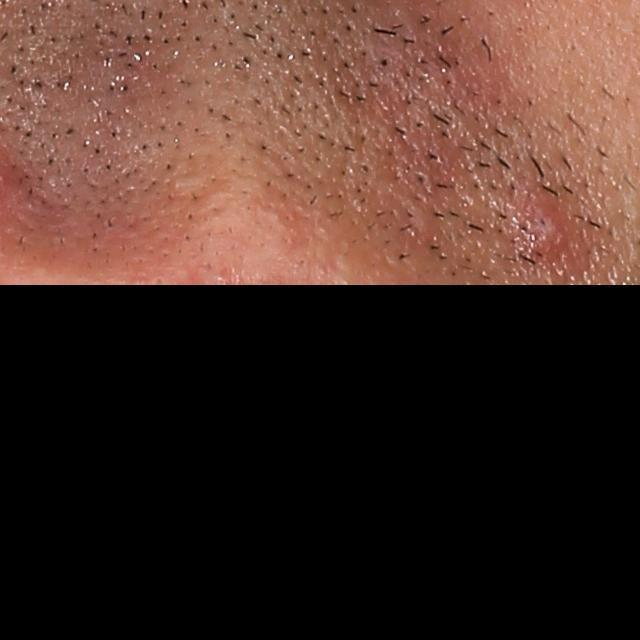papule: (514, 187, 584, 264)
